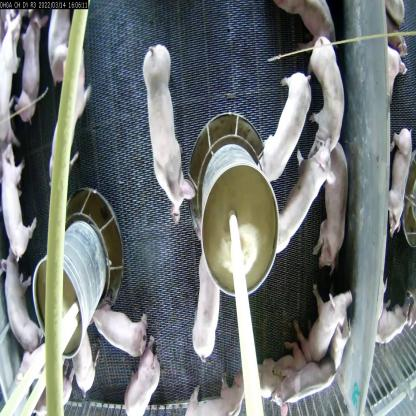Pig: (144, 37, 192, 221), (269, 142, 332, 262), (253, 73, 310, 188), (50, 54, 96, 184), (306, 25, 352, 152), (296, 280, 354, 367), (12, 18, 53, 127), (90, 290, 154, 358), (0, 140, 36, 258), (2, 245, 41, 350), (193, 255, 223, 362), (276, 359, 336, 411), (125, 349, 166, 415), (189, 369, 245, 416), (67, 332, 101, 398), (46, 10, 74, 76)
